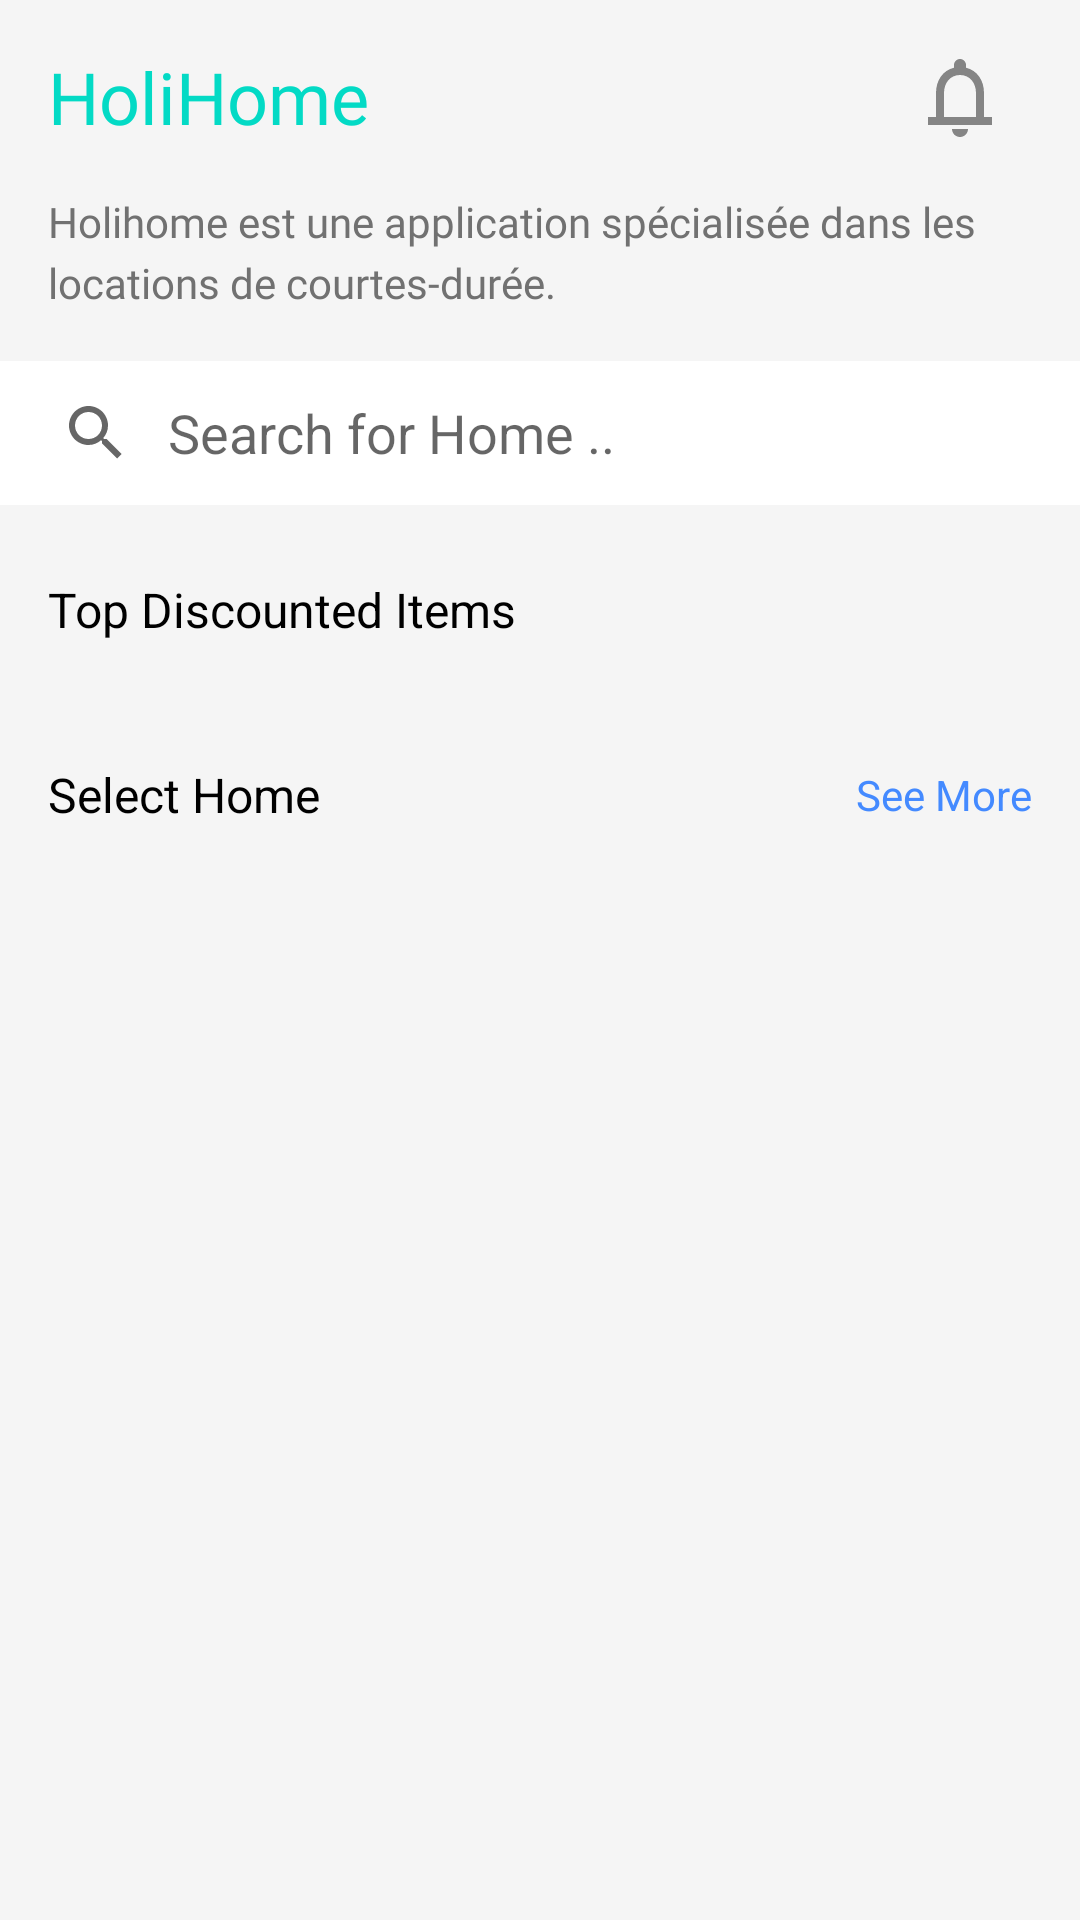

Icon click points for this 1080 x 1920 phone screenshot, format point (x, y):
notif: point (960, 98)
